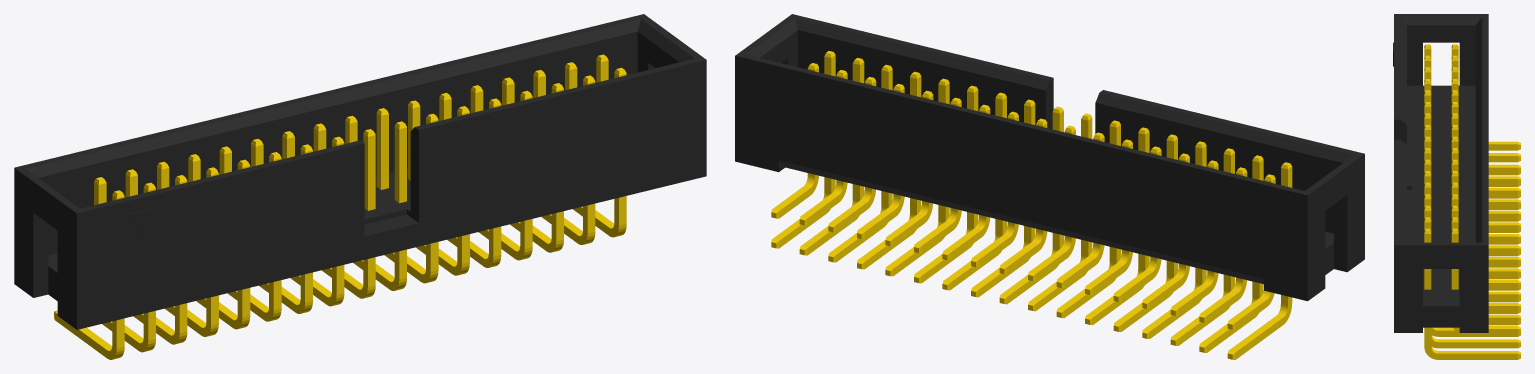
The model's file is DS1013-34R (IDC-34R CONNFLY).obj.
The picture shows the model from 3 angles, left to right: view 1: azimuth 30°, elevation 25°; view 2: azimuth 150°, elevation 25°; view 3: azimuth 270°, elevation 25°; orthographic projection. The views are drawn at different scales.
Parts seen in each view (by area): view 1: DS1013-34R_(IDC-34R_CONNFLY); view 2: DS1013-34R_(IDC-34R_CONNFLY); view 3: DS1013-34R_(IDC-34R_CONNFLY).
Boxes of the visible parts, x1=… form: DS1013-34R_(IDC-34R_CONNFLY): x1=14, y1=14, x2=706, y2=359; DS1013-34R_(IDC-34R_CONNFLY): x1=735, y1=14, x2=1364, y2=359; DS1013-34R_(IDC-34R_CONNFLY): x1=1393, y1=14, x2=1520, y2=359.
Bounding box in the file's own units: 0.0258 × 0.00711 × 0.00603.
